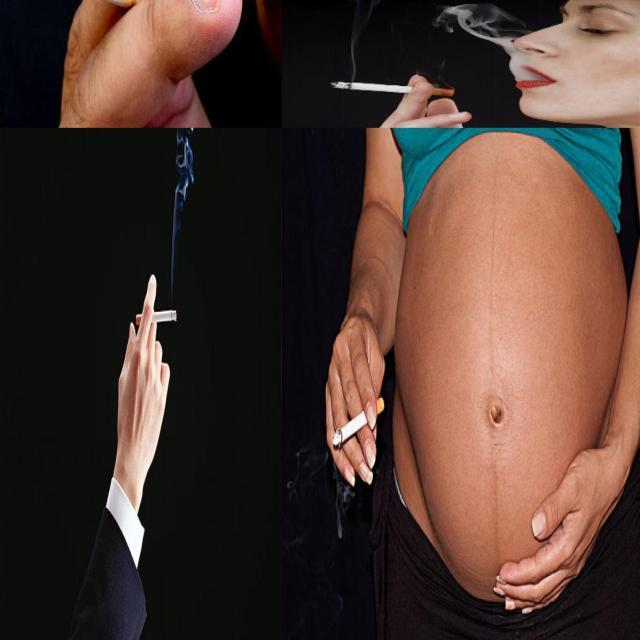smoking: (0, 0, 209, 38), (332, 397, 386, 448), (327, 80, 460, 98), (136, 310, 178, 326)
